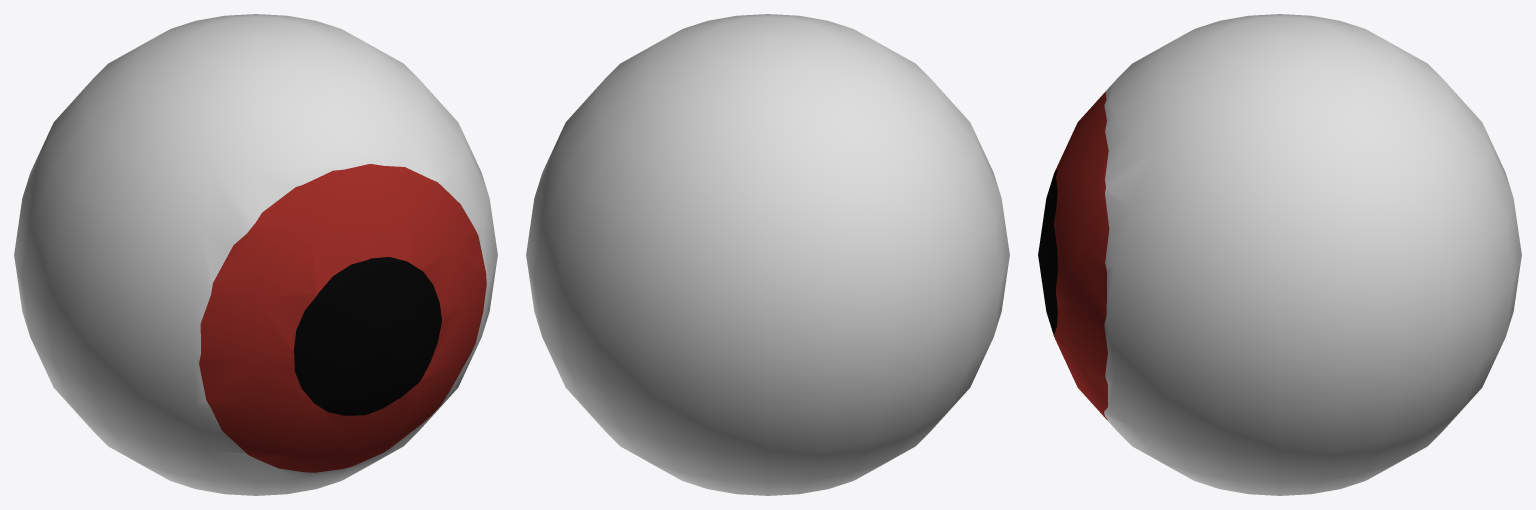
The picture shows the model from 3 angles, left to right: view 1: azimuth 30°, elevation 25°; view 2: azimuth 150°, elevation 25°; view 3: azimuth 270°, elevation 25°; orthographic projection.
Visible parts, largest first — view 1: Eye; view 2: Eye; view 3: Eye.
Part boxes in pixels (x1,y1,x2,y2): Eye: (14,14,497,495); Eye: (526,14,1009,495); Eye: (1038,14,1521,495).
Size of the model in its own units: 257 by 257 by 257.
